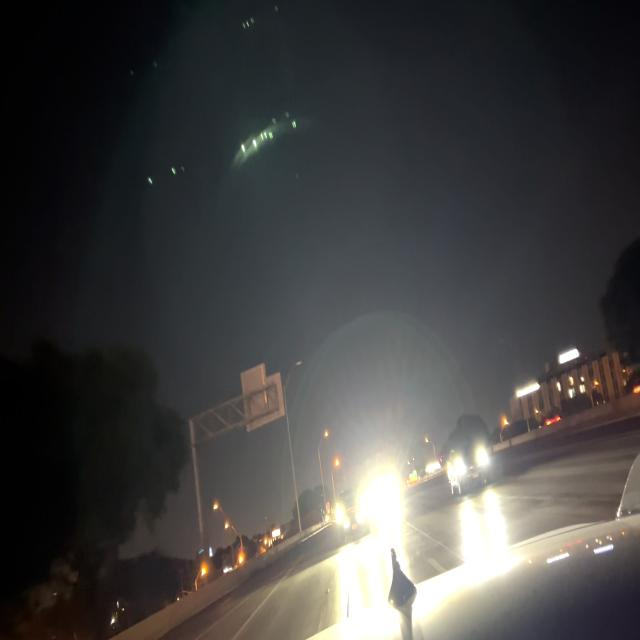back-of-sign: (240, 365, 285, 442)
